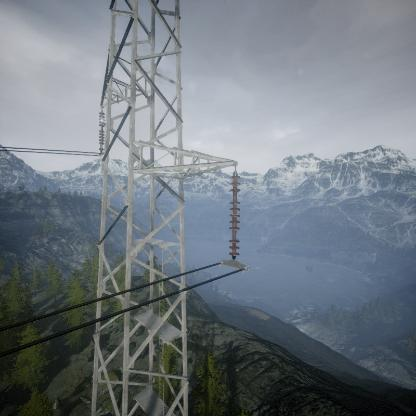insulator: (228, 170, 242, 261), (96, 110, 106, 154)
